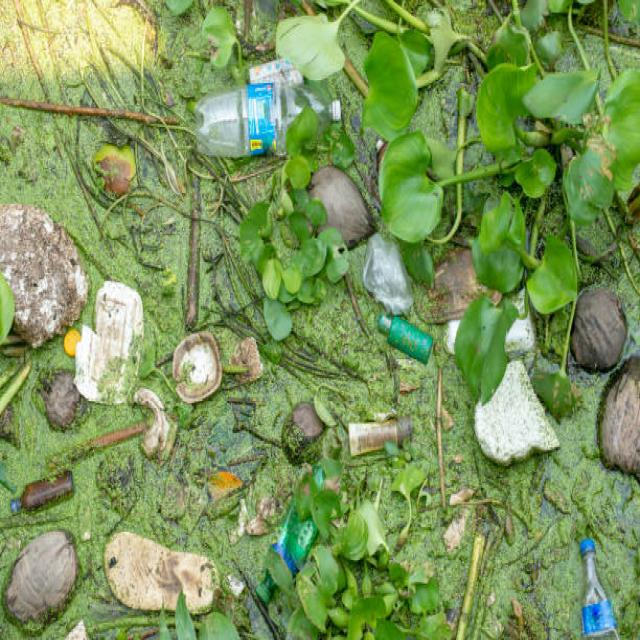plastic: (198, 91, 348, 152)
